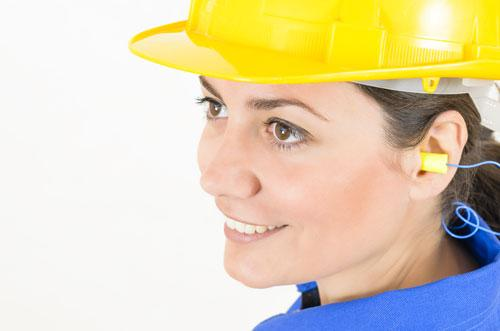helmet: (129, 1, 500, 87)
